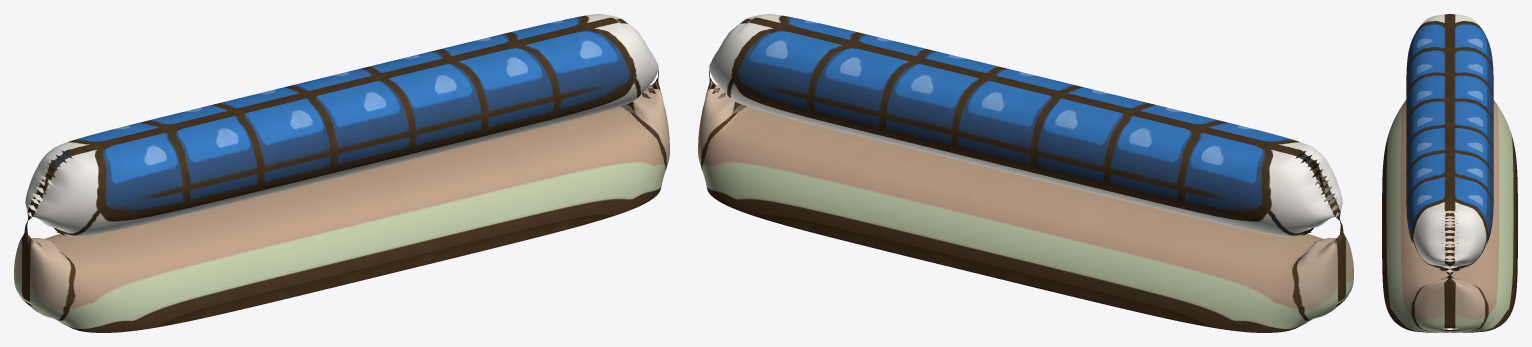
File: rim_wall.glb
3 renders of one model, left to right at view 1: azimuth 30°, elevation 25°; view 2: azimuth 150°, elevation 25°; view 3: azimuth 270°, elevation 25°, orthographic. The views are drawn at different scales.
Visible parts, largest first — view 1: rim_wall; view 2: rim_wall; view 3: rim_wall.
Part boxes in pixels (x1,y1,x2,y2): rim_wall: [14, 14, 669, 332]; rim_wall: [698, 14, 1353, 332]; rim_wall: [1382, 14, 1517, 332].
Size of the model in its own units: 0.9904 by 0.2307 by 0.25.
Materials: 1 (1 with a texture image).
